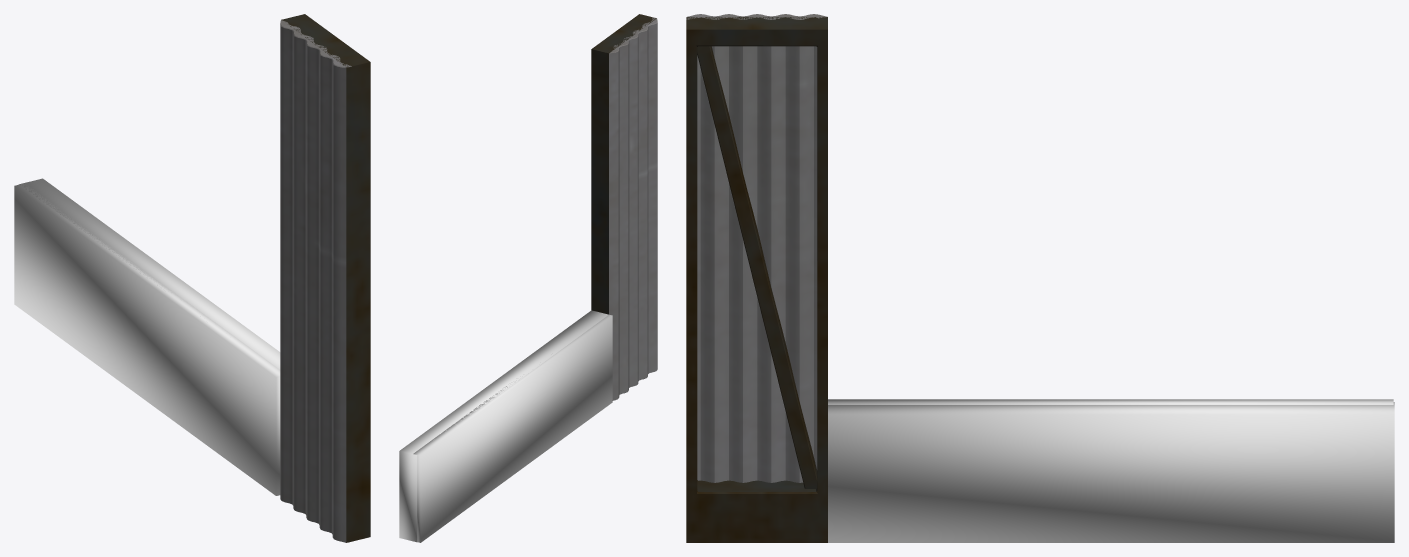
Rendered from SM_Wall_Quarter.fbx.
3 views of the same model, side by side, from view 1: azimuth 30°, elevation 25°; view 2: azimuth 150°, elevation 25°; view 3: azimuth 270°, elevation 25° (orthographic). The views are drawn at different scales.
Visible parts, largest first — view 1: SM_Wall_Quarter, SM_Wall_Quarter_ConvexHulls; view 2: SM_Wall_Quarter_ConvexHulls, SM_Wall_Quarter; view 3: SM_Wall_Quarter_ConvexHulls, SM_Wall_Quarter.
Boxes of the visible parts, x1,y1,x2,y2 form: SM_Wall_Quarter: [280, 14, 370, 542]; SM_Wall_Quarter_ConvexHulls: [14, 178, 280, 495]; SM_Wall_Quarter_ConvexHulls: [399, 310, 612, 542]; SM_Wall_Quarter: [591, 14, 657, 400]; SM_Wall_Quarter_ConvexHulls: [828, 399, 1394, 542]; SM_Wall_Quarter: [686, 14, 827, 542].
Bounding box in the file's own units: 0.2 × 3 × 3.75.
